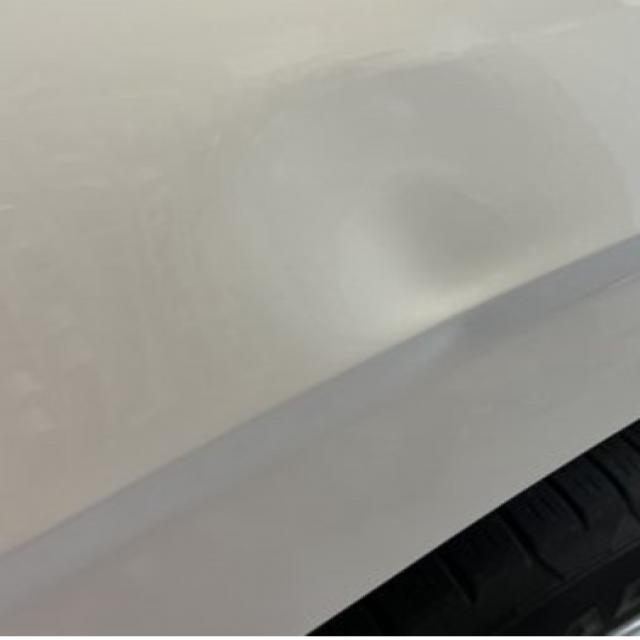dents: (323, 177, 574, 407)
